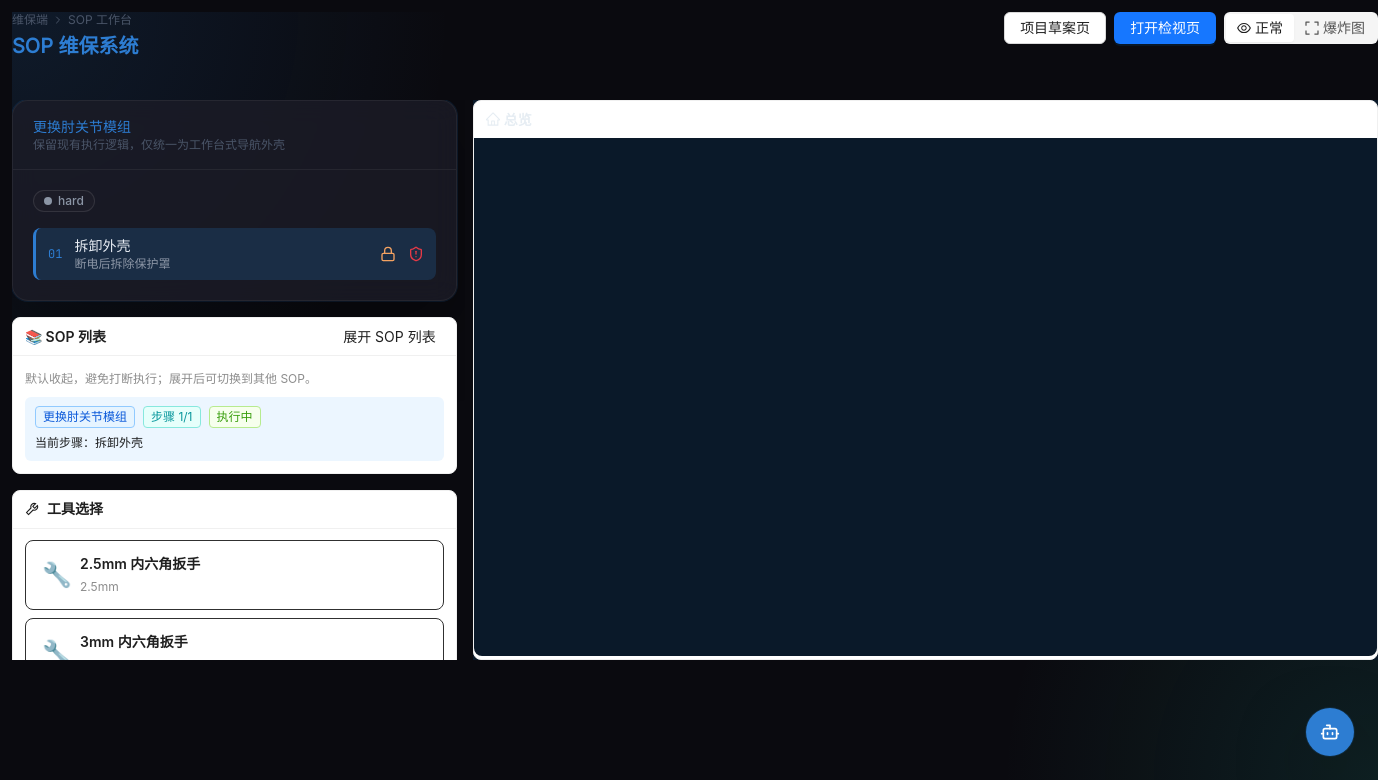
Test: SOPMaintenancePage characterization › shows SOP title button in expanded list and collapse button after expand
This screenshot has width=1378, height=780.
Click the button "展开 SOP 列表": coordinates (389, 336) [335,324,444,348]
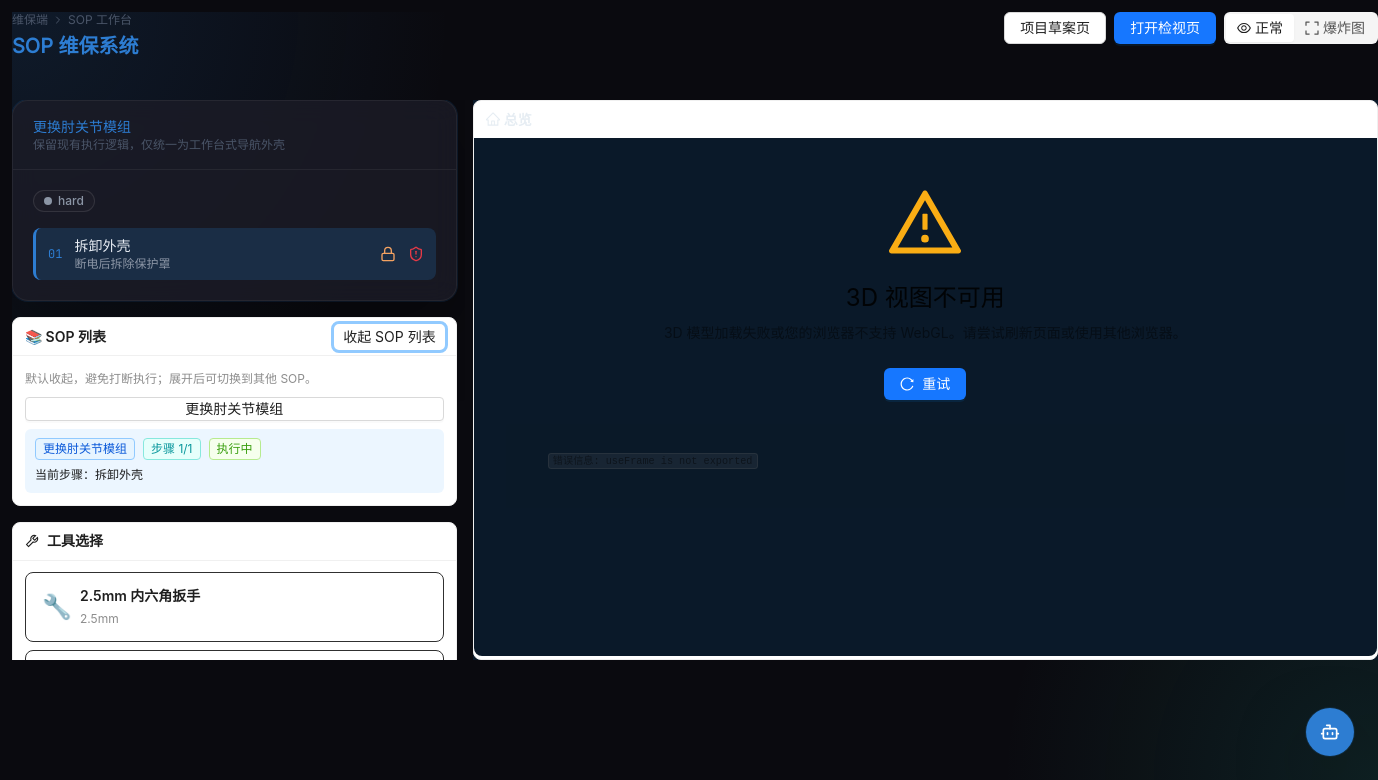
Now the button "更换肘关节模组" is shown, box [25,397,444,421]
Now the button "收起 SOP 列表" is shown, box [335,324,444,348]
